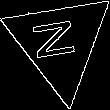N_E: (33, 19, 87, 67)
